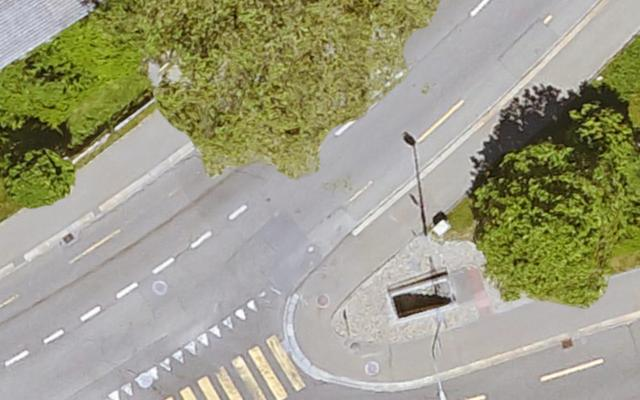tree: (136, 0, 441, 177), (478, 151, 619, 304), (2, 148, 72, 207), (568, 103, 633, 154)
